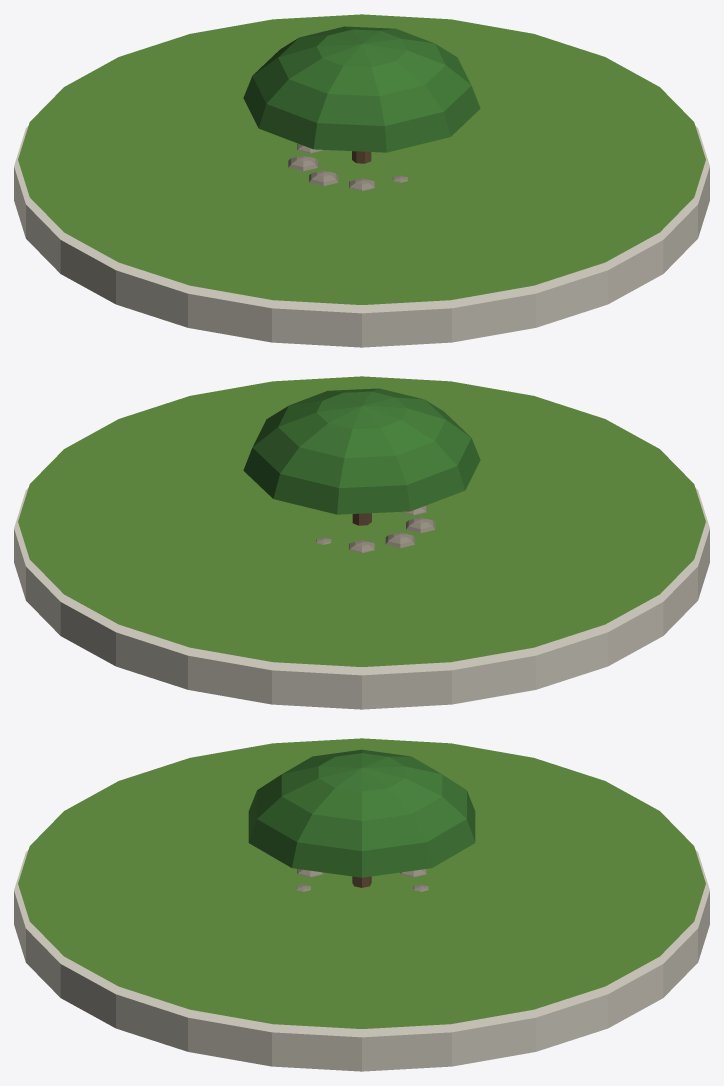
File: rb_leafytree.glb
3 views of the same model, one above another, from view 1: azimuth 30°, elevation 25°; view 2: azimuth 150°, elevation 25°; view 3: azimuth 270°, elevation 25° (orthographic).
Parts seen in each view (by area): view 1: rb_leafytree_lod0; view 2: rb_leafytree_lod0; view 3: rb_leafytree_lod0.
Part boxes in pixels (x1,y1,x2,y2): rb_leafytree_lod0: (14, 14, 709, 347); rb_leafytree_lod0: (14, 376, 709, 709); rb_leafytree_lod0: (14, 738, 709, 1071).
Size of what is drawn, in the model's own units: 35 by 8.69 by 35.
